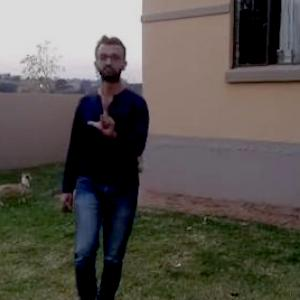land_hand: (86, 95, 123, 139)
